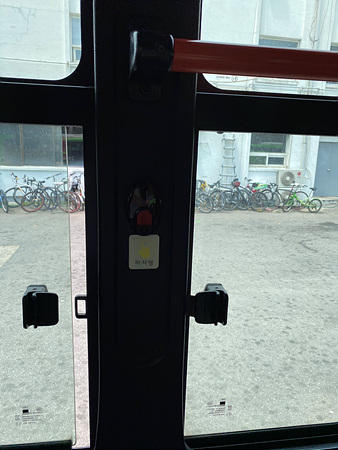bell: (124, 184, 163, 235)
